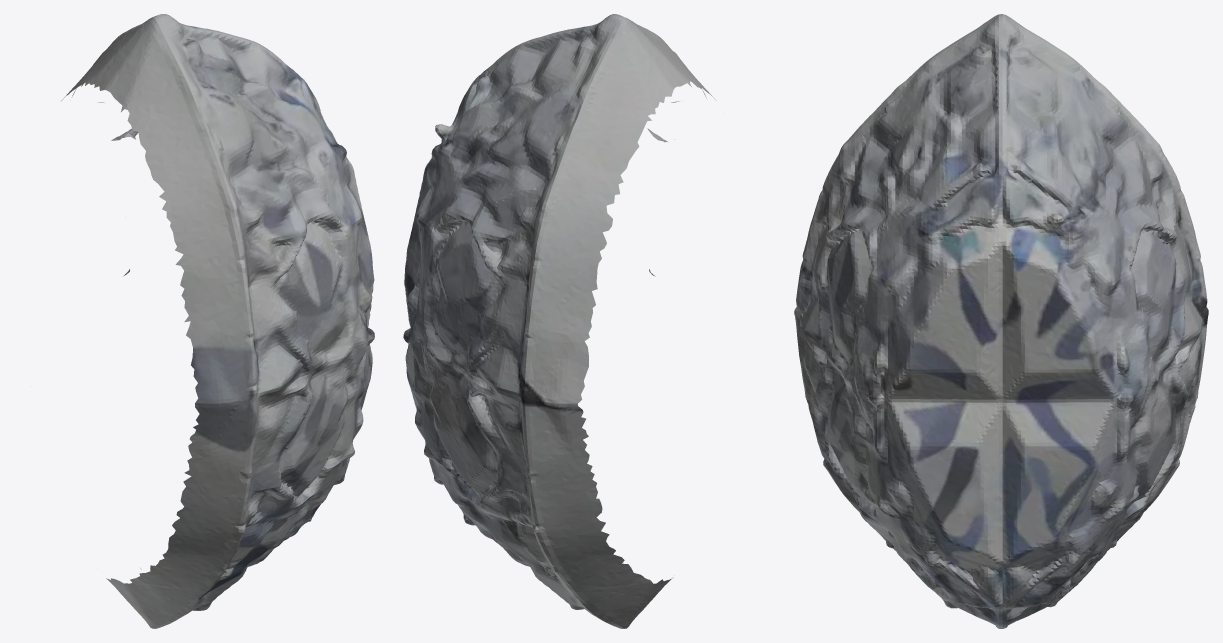
Rendered from marquise-crown.glb.
3 views of the same model, side by side, from view 1: azimuth 30°, elevation 25°; view 2: azimuth 150°, elevation 25°; view 3: azimuth 270°, elevation 25° (orthographic).
Parts seen in each view (by area): view 1: marquise_diamond_3d_model.glb; view 2: marquise_diamond_3d_model.glb; view 3: marquise_diamond_3d_model.glb.
Boxes of the visible parts, <box> form: marquise_diamond_3d_model.glb: <box>61,14,374,628</box>; marquise_diamond_3d_model.glb: <box>403,14,716,628</box>; marquise_diamond_3d_model.glb: <box>794,14,1208,628</box>.
Bounding box in the file's own units: 0.145 × 0.3781 × 0.2313.
Materials: 1 (1 with a texture image).
